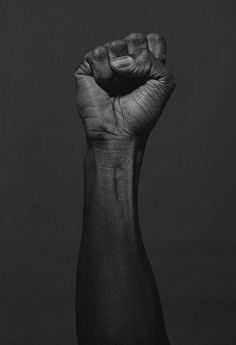fist: (81, 37, 174, 145)
